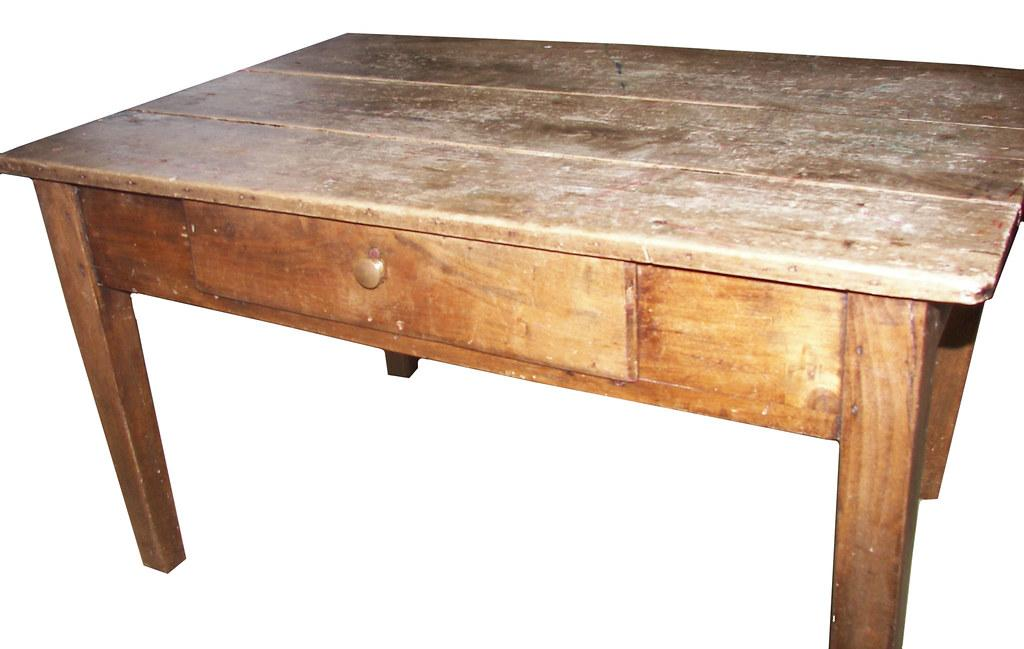table: (2, 31, 1023, 647)
